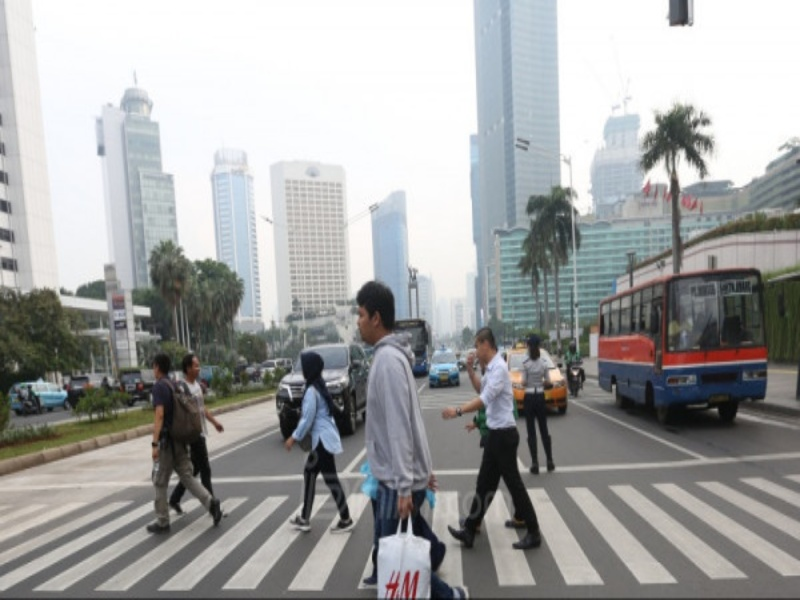zebra cross: (1, 474, 800, 591)
